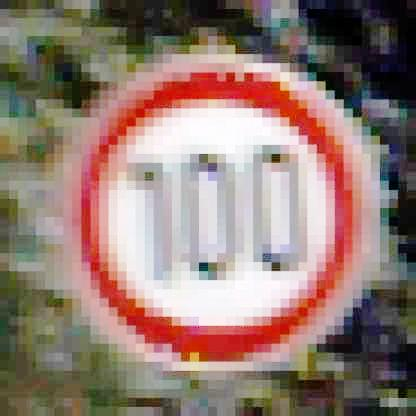Speed Limit -100-: (54, 51, 382, 372)
